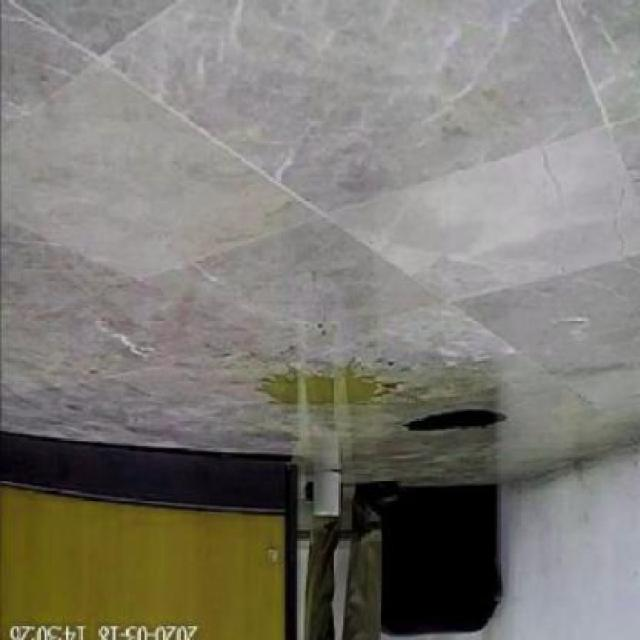spillage: (256, 369, 399, 407), (405, 409, 508, 431)
